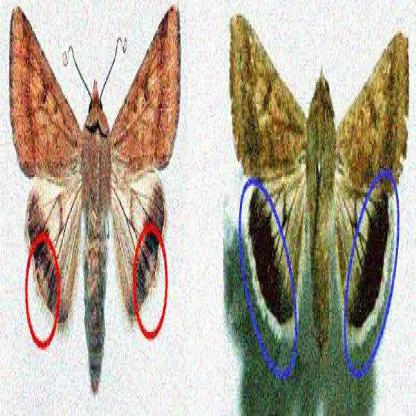helicoverpa: (9, 8, 181, 393), (230, 15, 410, 375)
